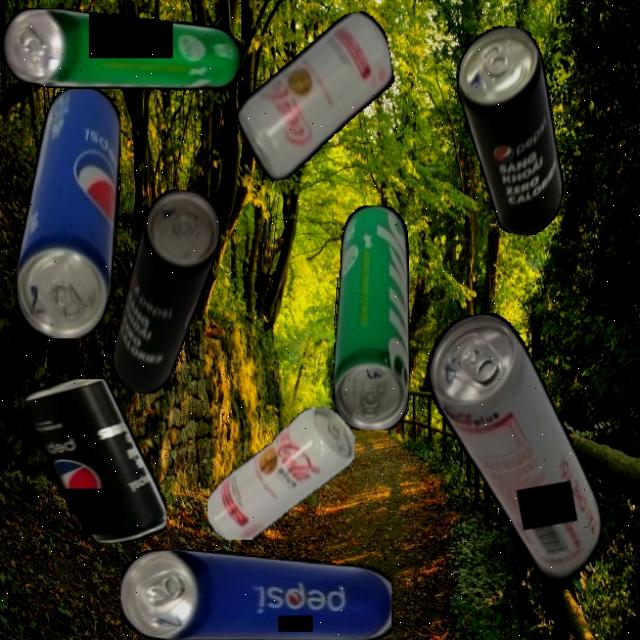debris: (420, 300, 612, 610), (432, 19, 589, 240), (224, 8, 408, 185), (14, 85, 121, 338), (107, 184, 226, 402), (120, 547, 392, 640), (23, 379, 166, 543), (2, 7, 241, 92), (206, 406, 354, 540), (332, 204, 409, 430)
